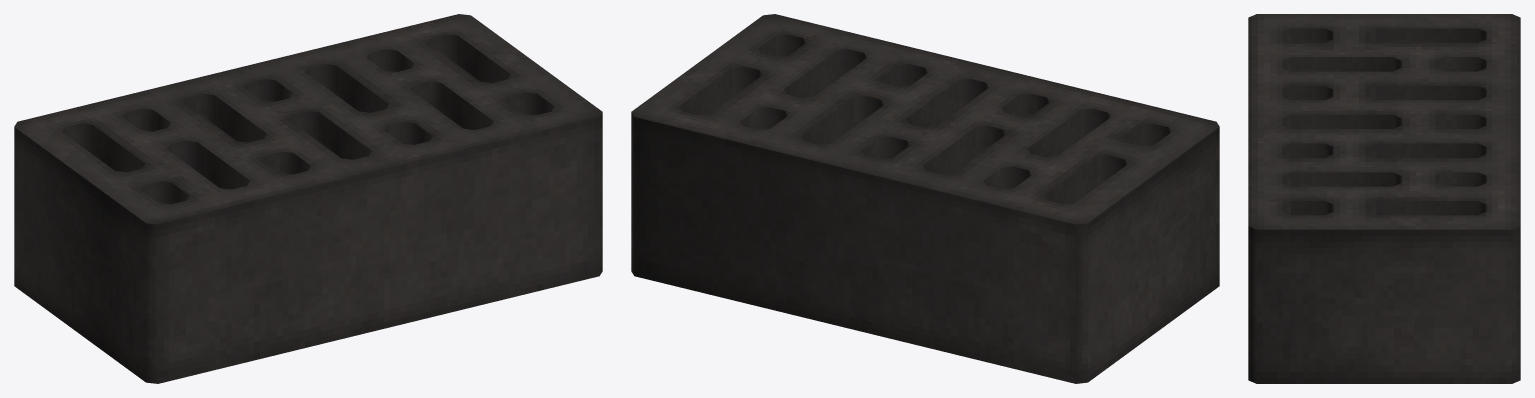
File: brick_1_3.glb
3 renders of one model, left to right at view 1: azimuth 30°, elevation 25°; view 2: azimuth 150°, elevation 25°; view 3: azimuth 270°, elevation 25°, orthographic. The views are drawn at different scales.
Parts seen in each view (by area): view 1: brick_1_3; view 2: brick_1_3; view 3: brick_1_3.
Boxes of the visible parts, x1,y1,x2,y2 form: brick_1_3: (14, 14, 602, 383); brick_1_3: (631, 14, 1219, 383); brick_1_3: (1248, 14, 1520, 383).
Size of the model in its own units: 0.42 by 0.14 by 0.224.
1 material, 1 textured.
